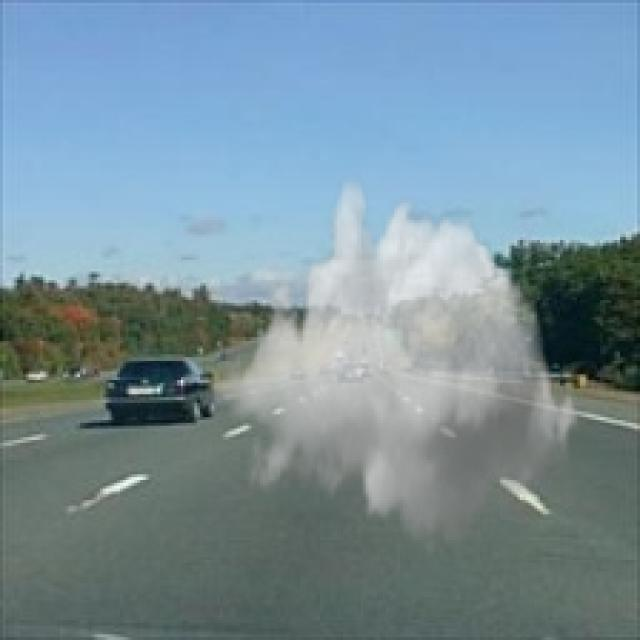smoke: (211, 174, 583, 566)
